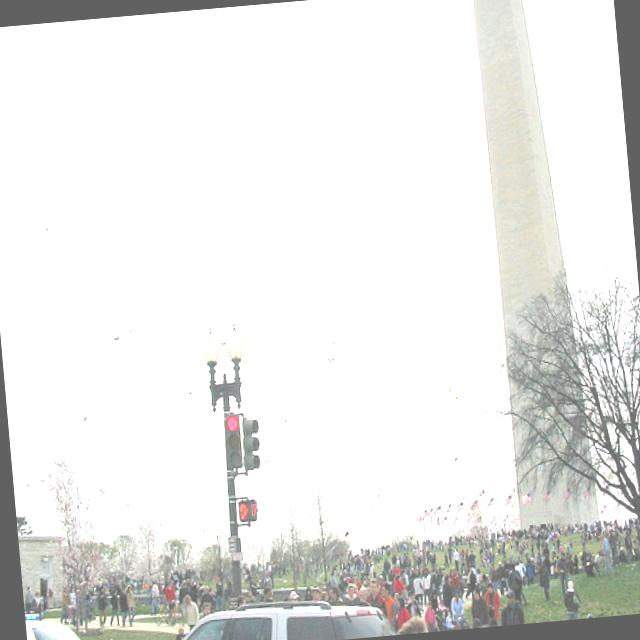Vehicle: (108, 602, 393, 640), (24, 603, 118, 640)
